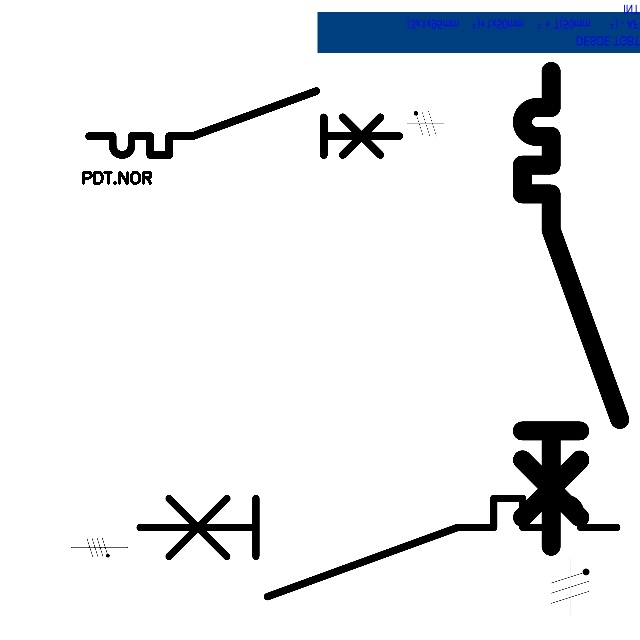interruptor_termomagnetico: (127, 486, 628, 608), (510, 59, 632, 558), (81, 83, 407, 163)
